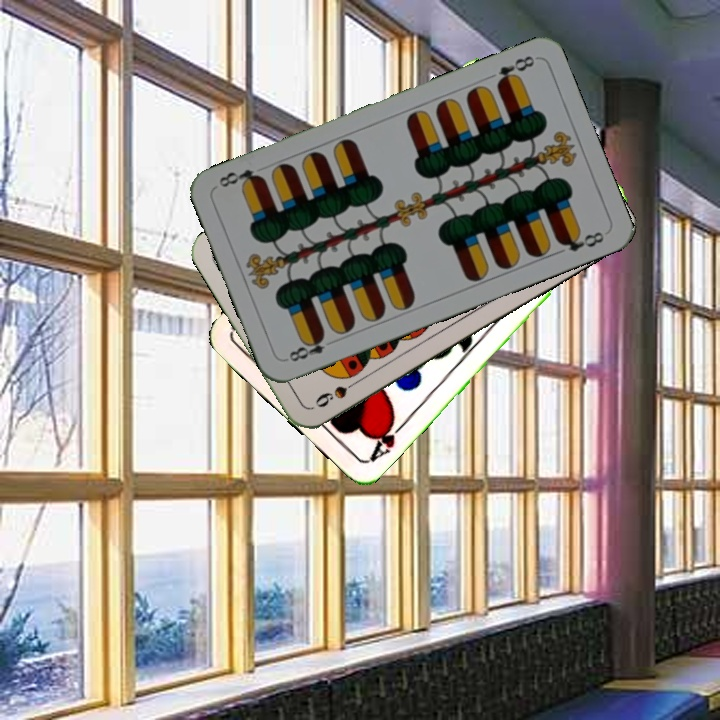E8: (282, 330, 339, 365), (492, 51, 538, 89)
HA: (364, 413, 410, 465)
S9: (311, 374, 364, 411)
